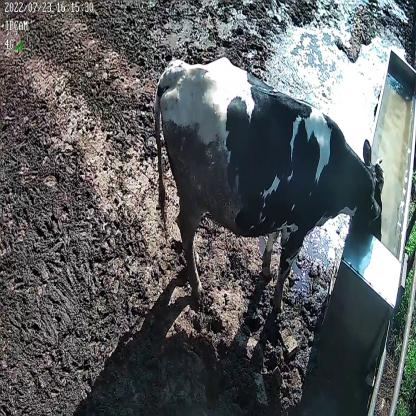cow: (154, 56, 387, 313)
